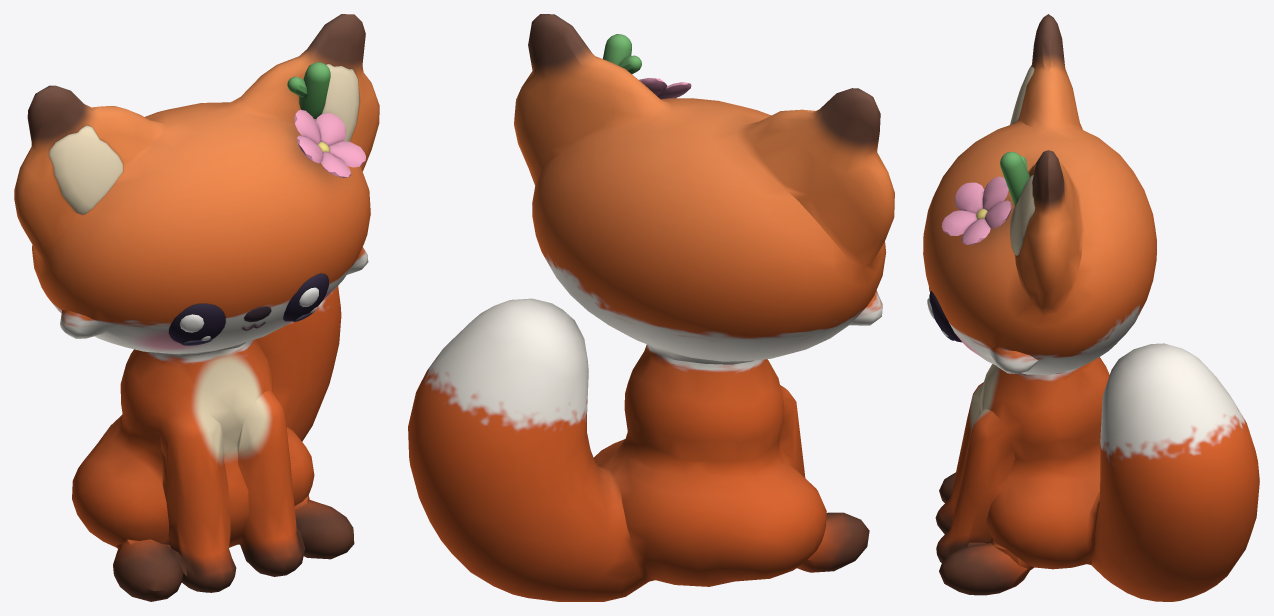
Rendered from creature_fox.fbx.
3 views of the same model, side by side, from view 1: azimuth 30°, elevation 25°; view 2: azimuth 150°, elevation 25°; view 3: azimuth 270°, elevation 25° (orthographic). The views are drawn at different scales.
Parts seen in each view (by area): view 1: creature_fox; view 2: creature_fox; view 3: creature_fox.
Part boxes in pixels (<box>): creature_fox: <box>14,14,379,601</box>; creature_fox: <box>408,14,894,601</box>; creature_fox: <box>923,14,1259,601</box>.
Bounding box in the file's own units: 360 × 450 × 290.
Materials: 1 (1 with a texture image).
